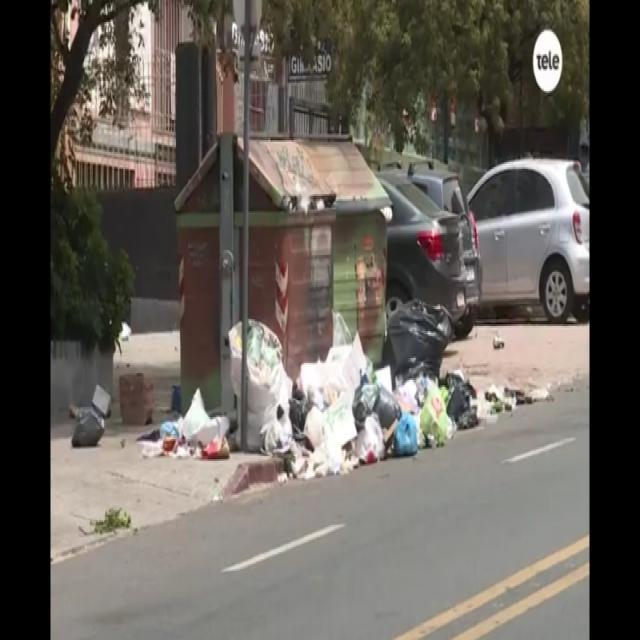garbage: (290, 330, 378, 490), (378, 366, 478, 461), (230, 312, 292, 457), (137, 388, 233, 477), (378, 293, 454, 372), (478, 363, 554, 433), (62, 376, 118, 462), (271, 182, 334, 222), (377, 194, 397, 229), (490, 324, 510, 357)
